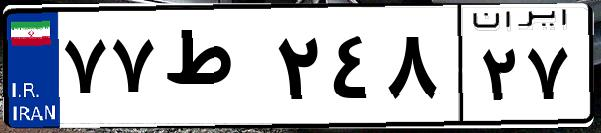2: (270, 28, 330, 110), (475, 38, 525, 113)
4: (330, 28, 385, 110)
7: (57, 26, 110, 100), (525, 38, 570, 115), (110, 28, 158, 98)
8: (385, 28, 445, 110)
ط: (158, 20, 270, 120)
